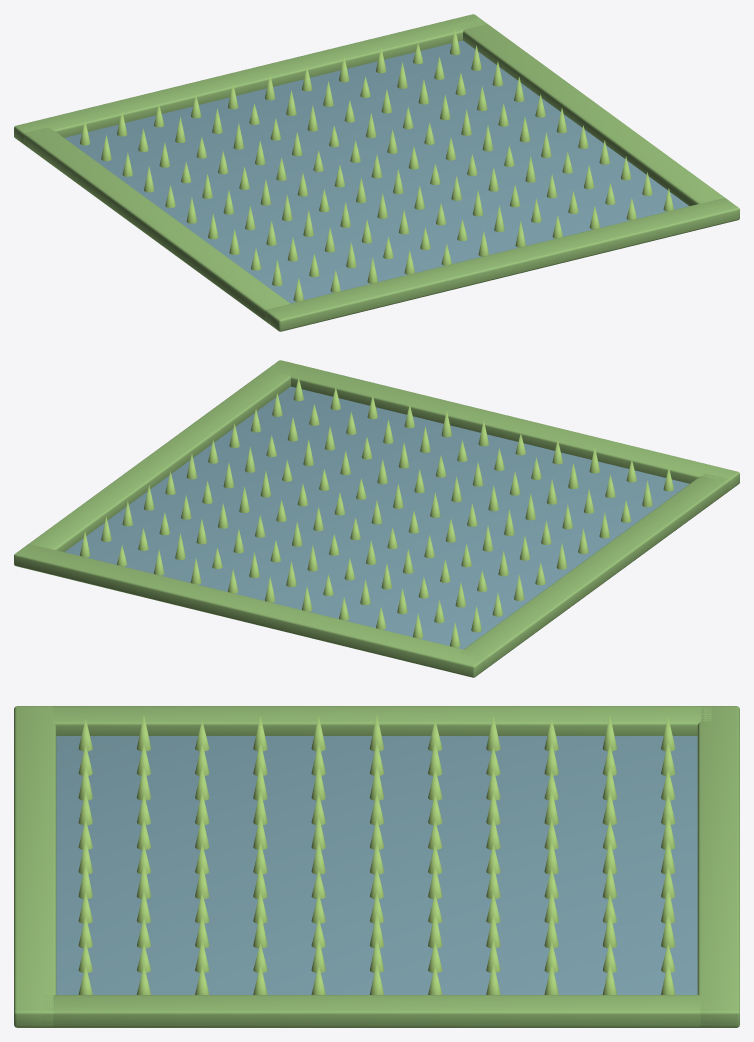
File: tanbo.glb
The picture shows the model from 3 angles, top to bottom: view 1: azimuth 30°, elevation 25°; view 2: azimuth 150°, elevation 25°; view 3: azimuth 270°, elevation 25°; orthographic projection. The views are drawn at different scales.
Parts seen in each view (by area): view 1: tanbo; view 2: tanbo; view 3: tanbo.
Boxes of the visible parts, left/top/right/bottom form: tanbo: left=14, top=14, right=739, bottom=331; tanbo: left=14, top=360, right=739, bottom=677; tanbo: left=14, top=706, right=739, bottom=1027.
Bounding box in the file's own units: 8.6 × 0.4994 × 8.6.
